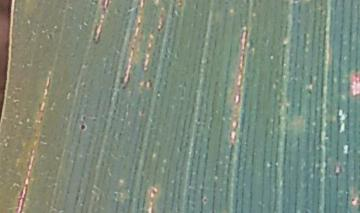tarspot: (77, 123, 89, 132)
